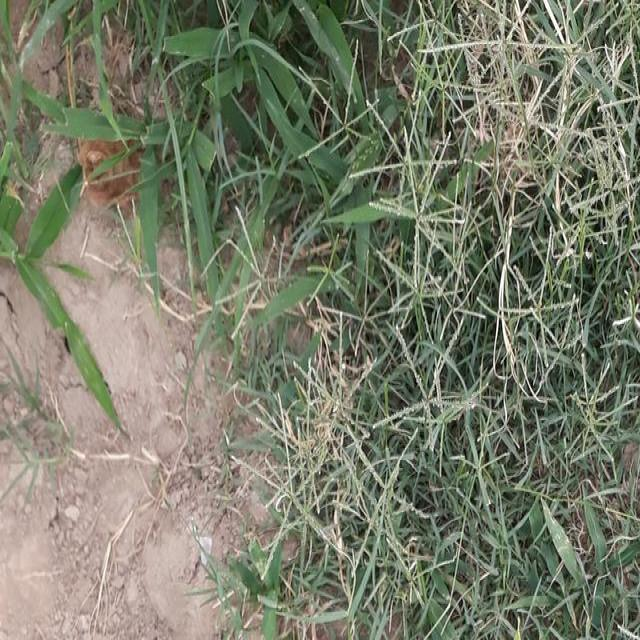weed: (414, 17, 640, 639), (112, 17, 391, 273), (240, 314, 420, 619), (5, 6, 127, 437)
